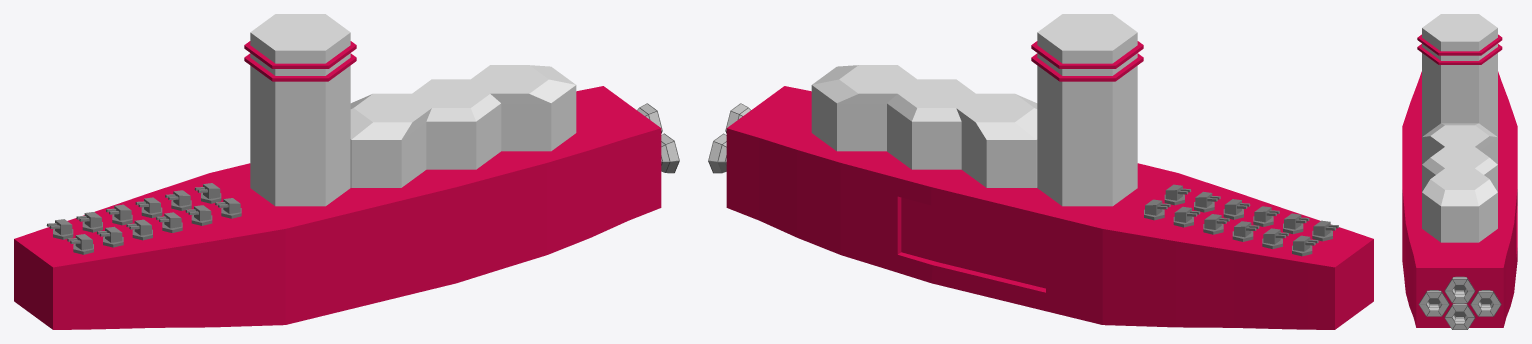
File: space battleship.fbx
3 renders of one model, left to right at view 1: azimuth 30°, elevation 25°; view 2: azimuth 150°, elevation 25°; view 3: azimuth 270°, elevation 25°, orthographic. The views are drawn at different scales.
Visible parts, largest first — view 1: Cube; view 2: Cube; view 3: Cube.
Boxes of the visible parts, box(x1,y1,x2,y2) form: Cube: box(14, 14, 679, 329); Cube: box(708, 14, 1373, 329); Cube: box(1402, 14, 1517, 329).
Size of the model in its own units: 939 by 365 by 200.
